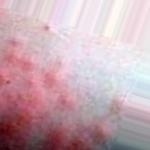Reupload: (0, 10, 136, 149)
